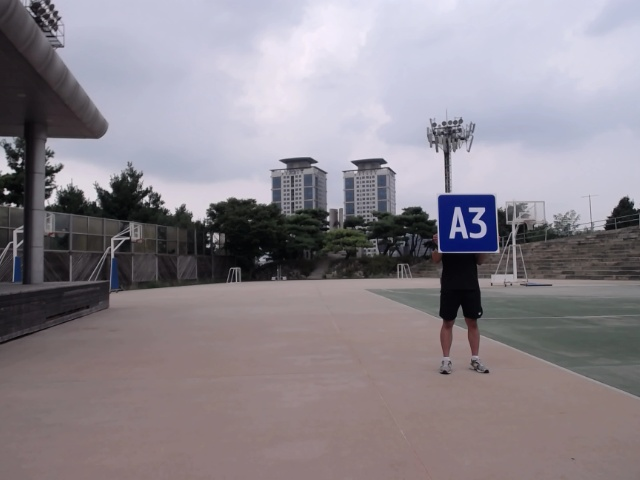delivery_a3: (437, 193, 500, 253)
